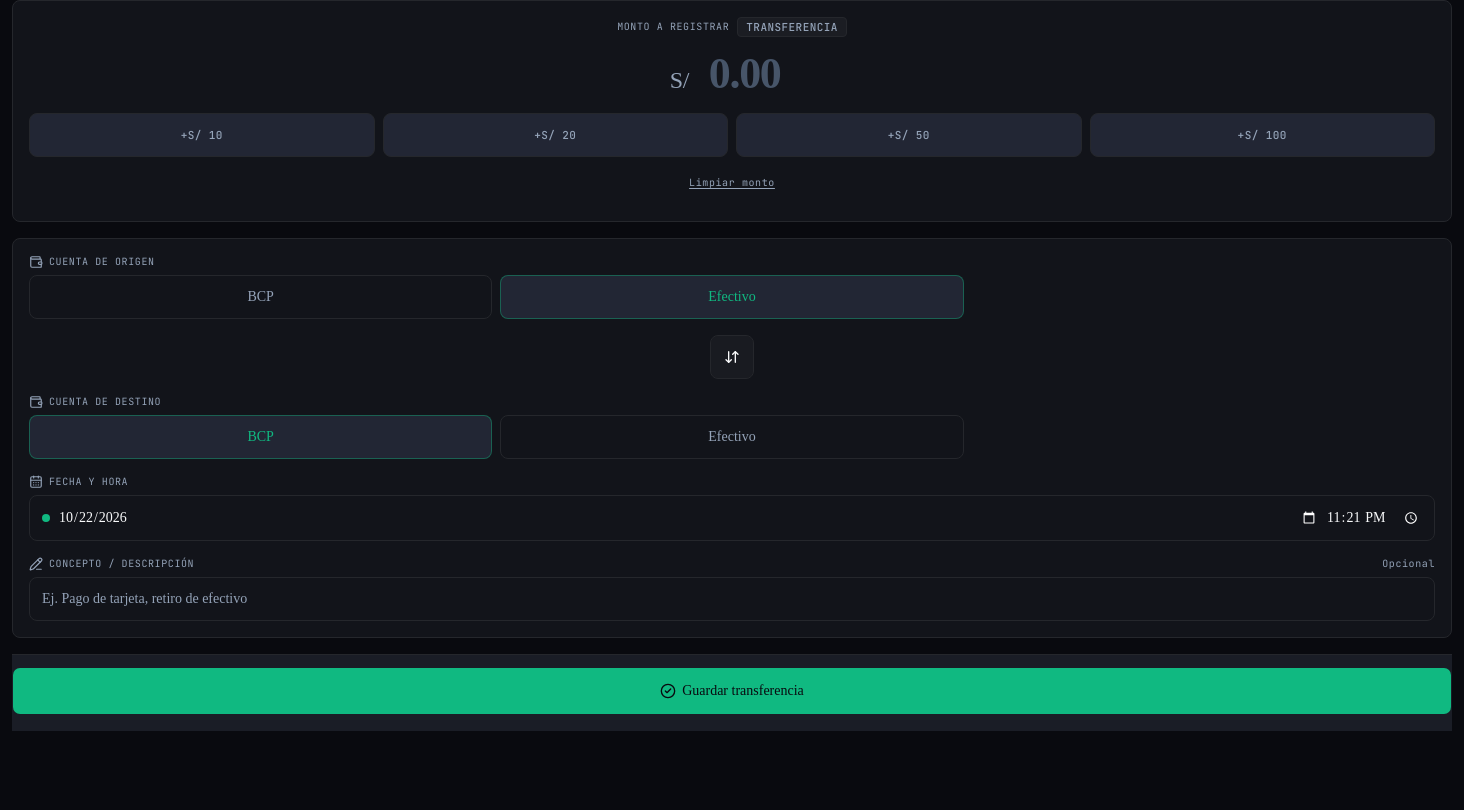
Test: TransferForm › shows the repository error and keeps the form open
The image size is (1464, 810).
Expected: the element named "Cuenta de origen" is shown, top-left (29, 275), bottom-right (964, 319)
Type "5" into the field named "Monto".
click(745, 73); type("5")  # box top-left (695, 45), bottom-right (794, 101)
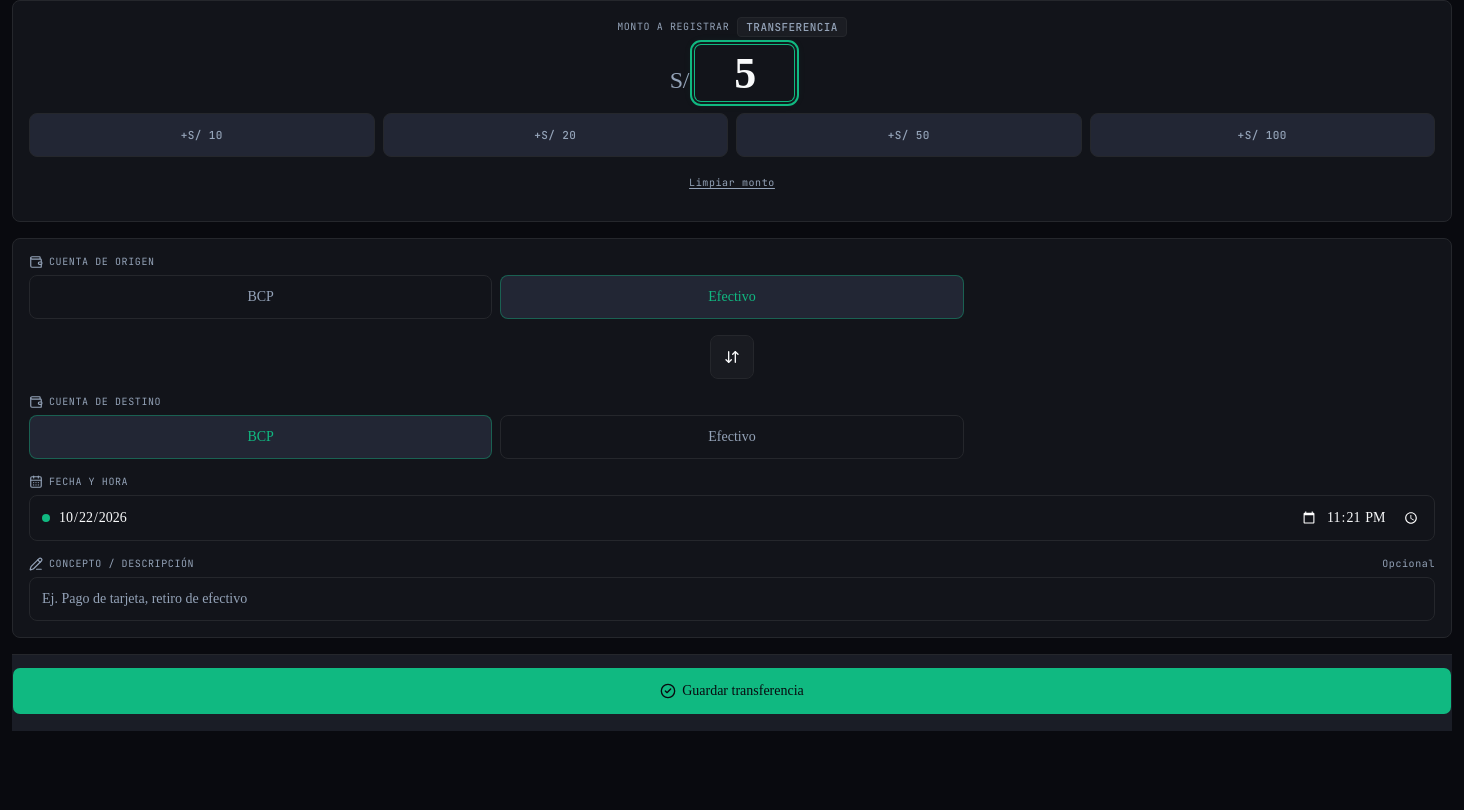
Click the button "Guardar transferencia".
click(732, 691)  # box top-left (12, 667), bottom-right (1452, 715)
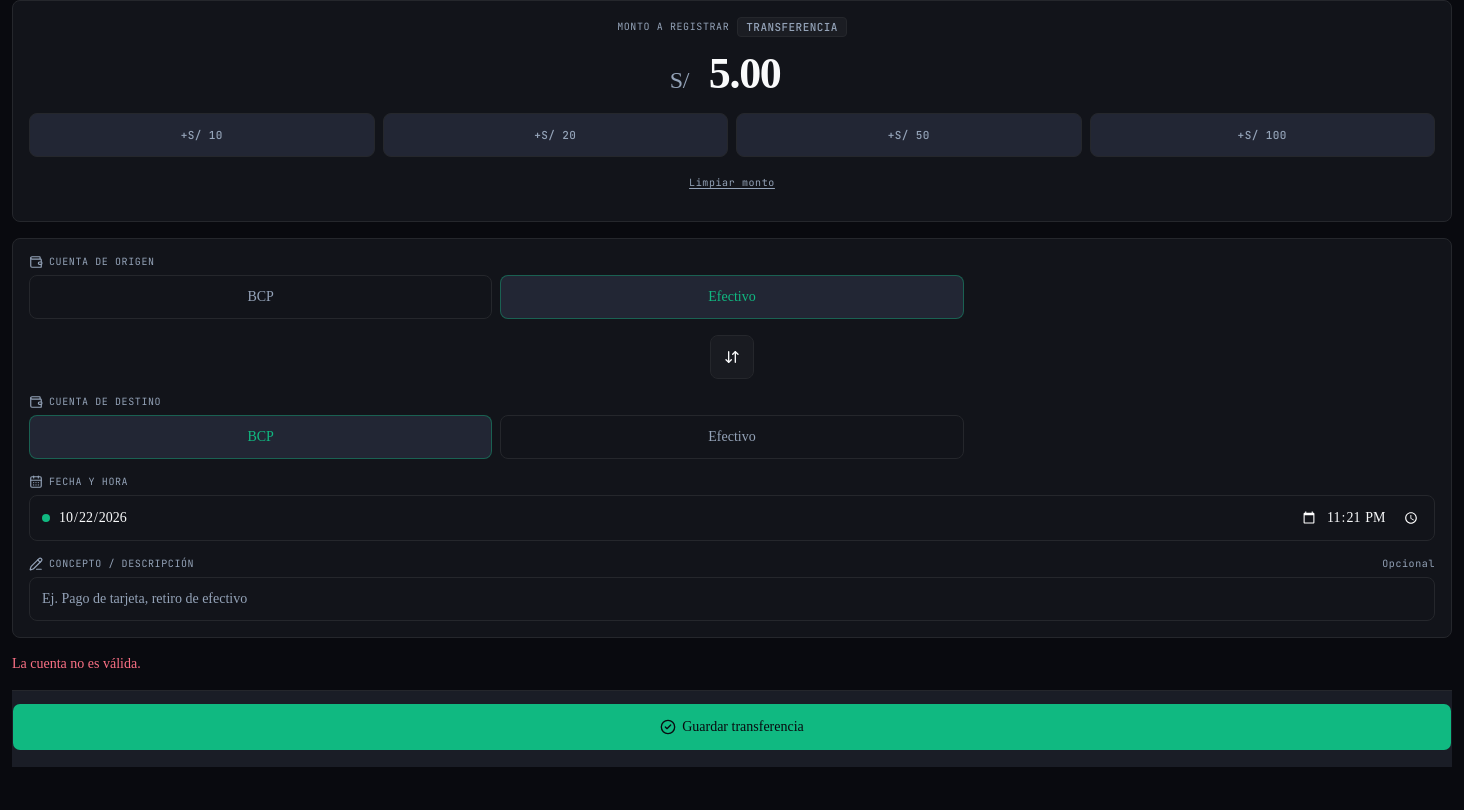
Now the text "La cuenta no es válida." is shown, box top-left (12, 656), bottom-right (141, 671)
